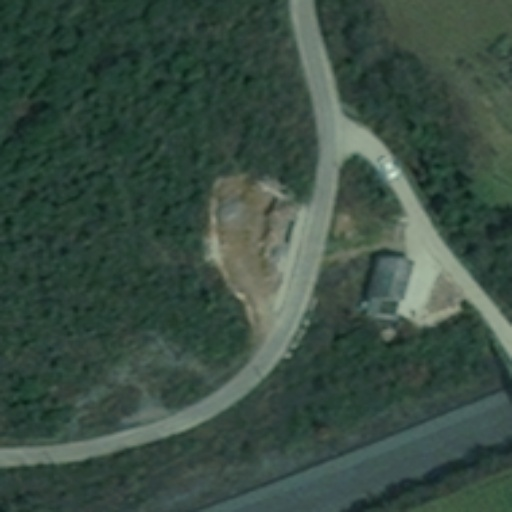landslide: (203, 170, 302, 339)
